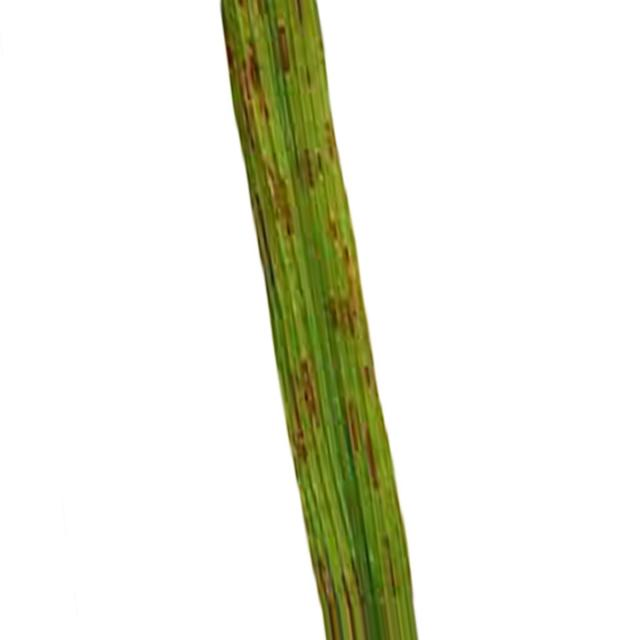Brown_Spot: (226, 40, 266, 131), (312, 560, 341, 639), (254, 178, 298, 226), (329, 288, 368, 335), (339, 402, 368, 463), (300, 360, 324, 429), (389, 549, 411, 602), (345, 582, 362, 639), (300, 148, 324, 188), (299, 61, 319, 95), (278, 25, 290, 71), (369, 442, 378, 501), (291, 0, 315, 21), (330, 120, 340, 166), (330, 218, 345, 245)
